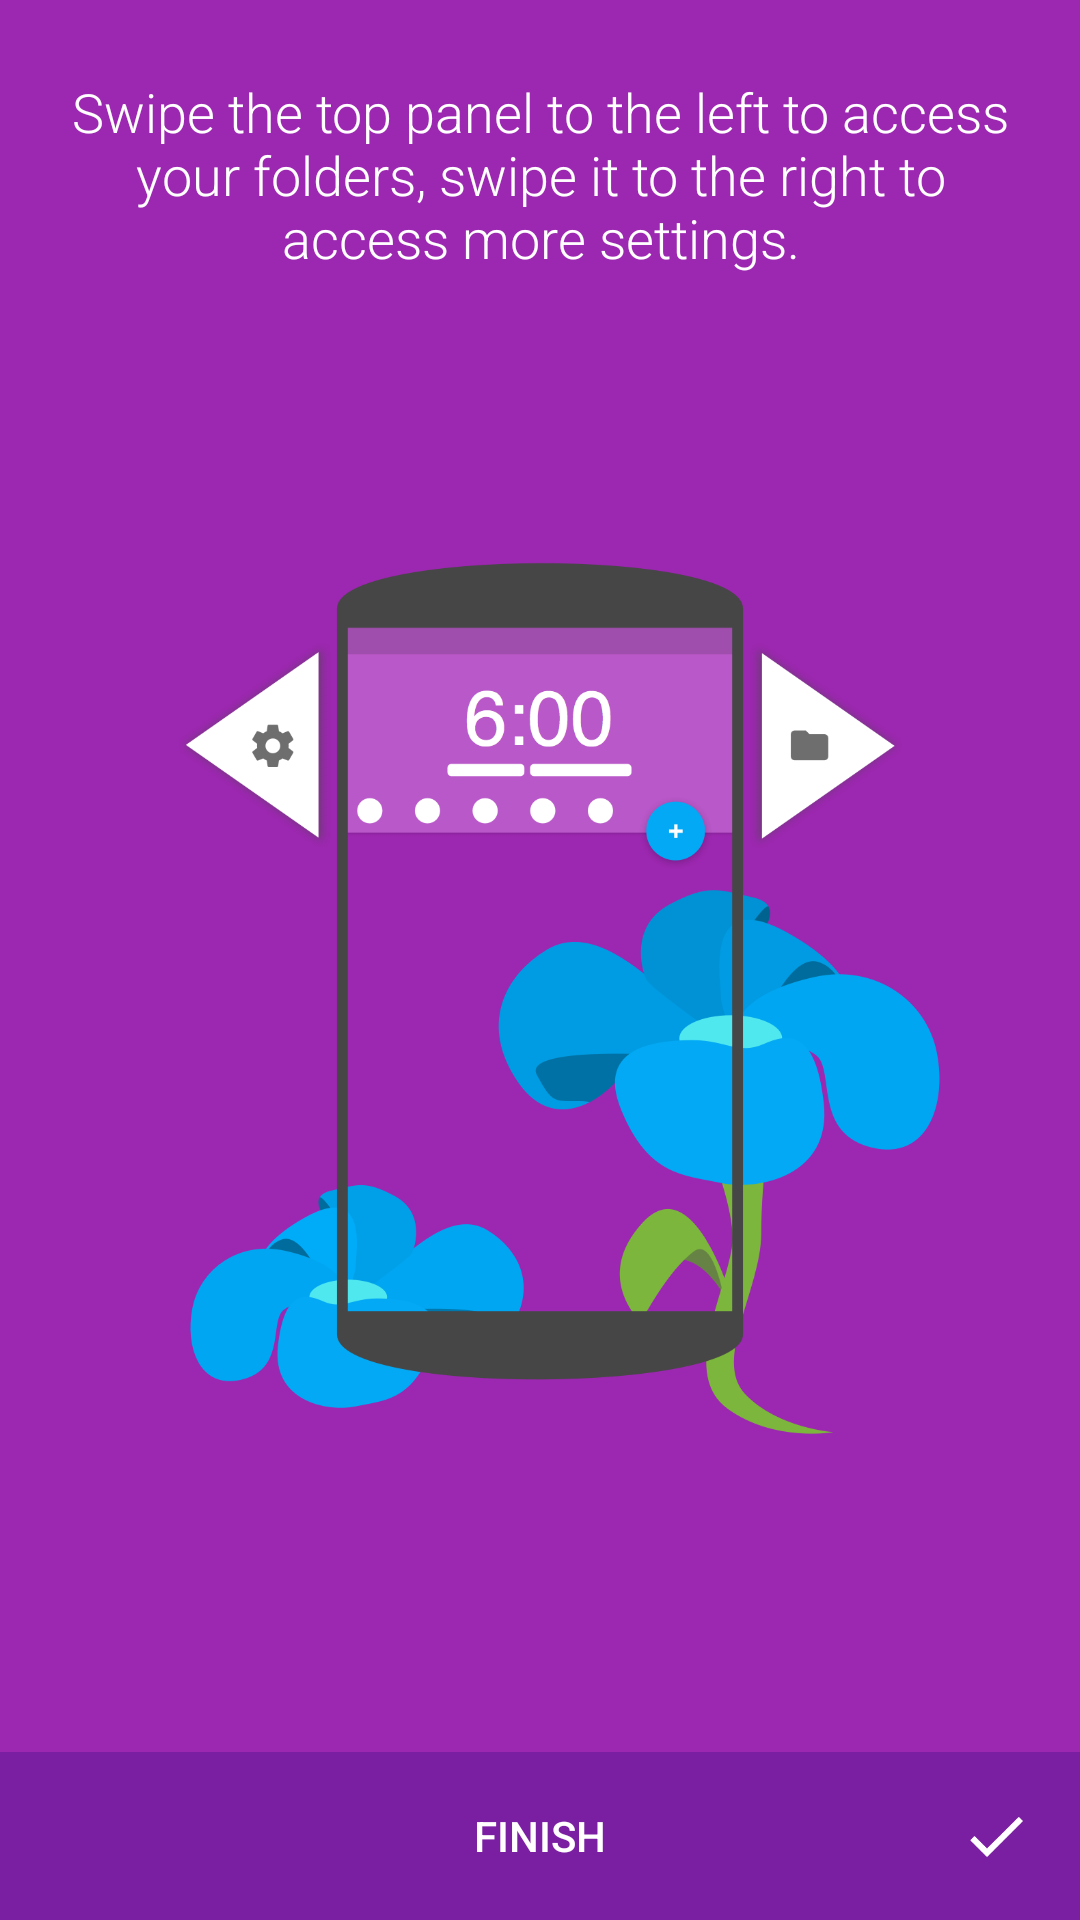

Icons on this 1080*1920 Android screen, each with its box as detection(x1, y1, x2, y2):
okay: detection(970, 1817, 1023, 1857)
